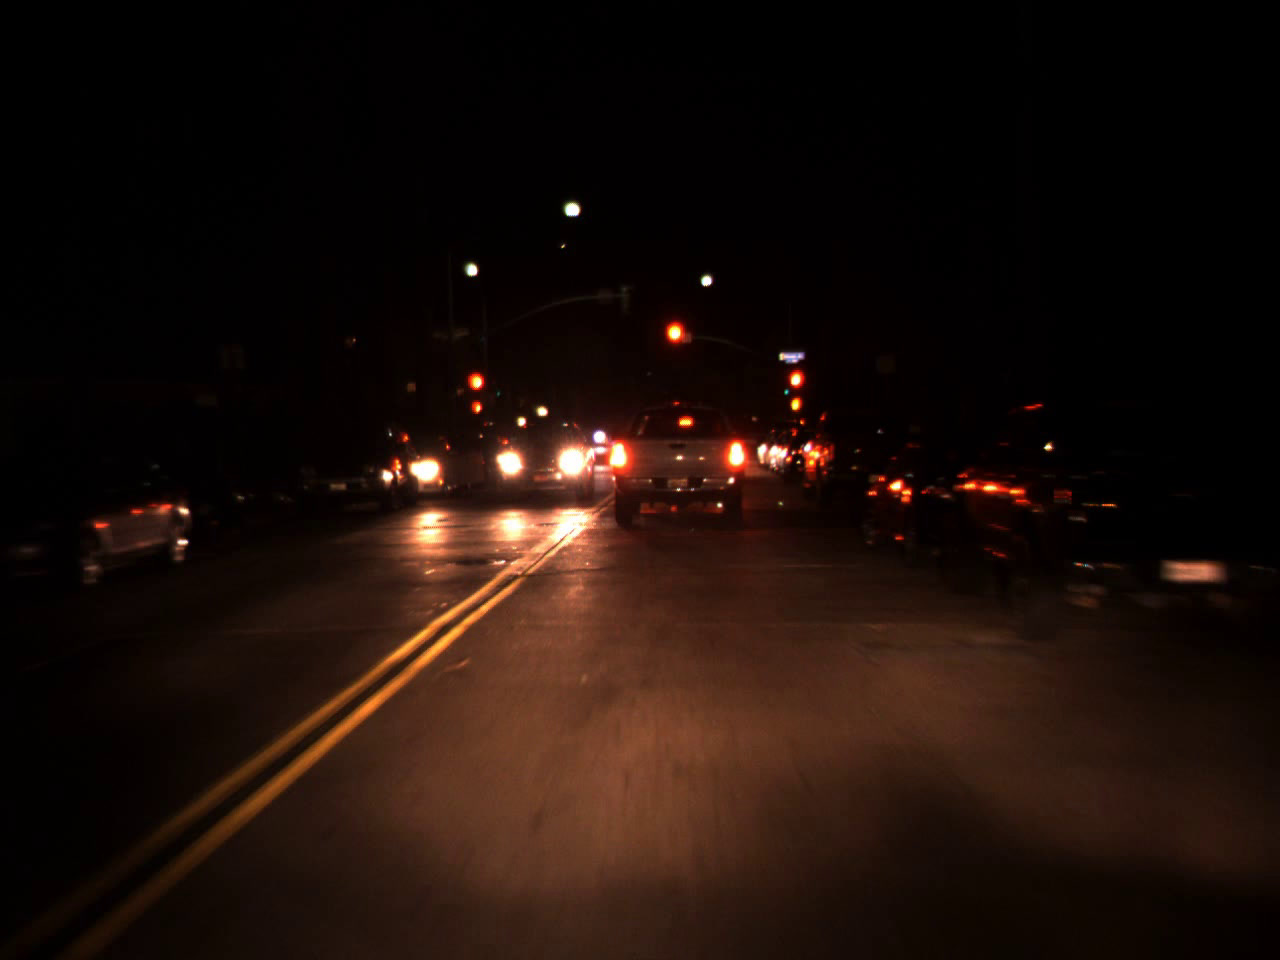stop: (662, 317, 687, 371), (786, 365, 807, 413), (465, 370, 487, 413)
